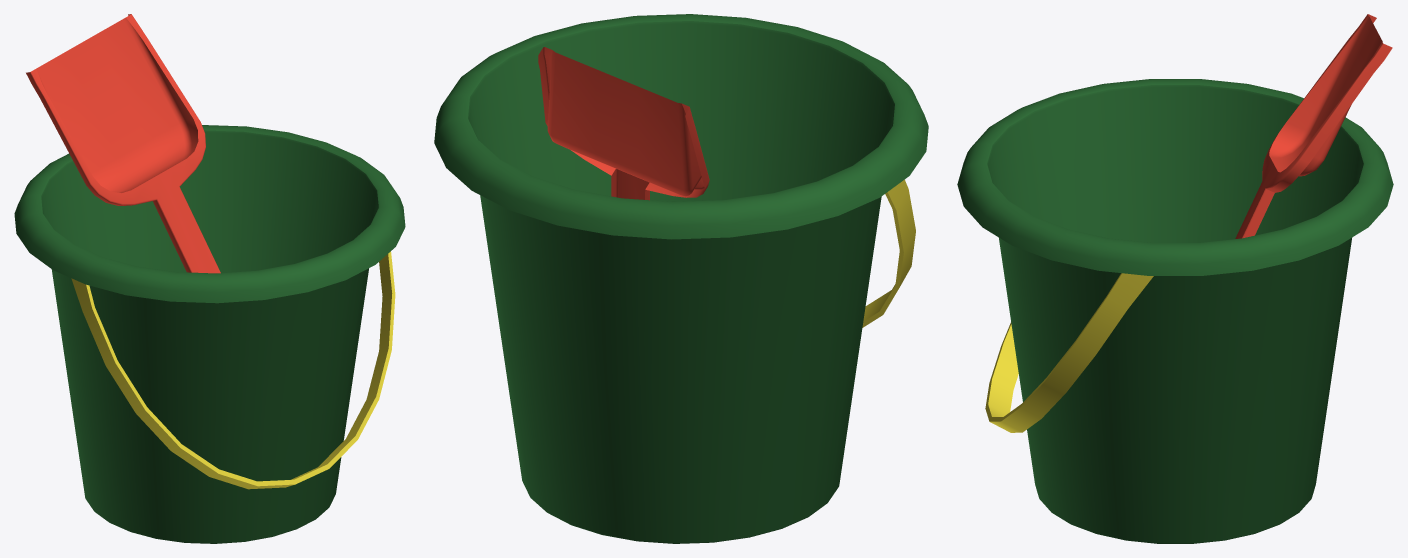
File: Secchio&Paletta.fbx
The picture shows the model from 3 angles, left to right: view 1: azimuth 30°, elevation 25°; view 2: azimuth 150°, elevation 25°; view 3: azimuth 270°, elevation 25°; orthographic projection. The views are drawn at different scales.
Visible parts, largest first — view 1: SandBucket, Spade, SandBucketHandle; view 2: SandBucket, Spade, SandBucketHandle; view 3: SandBucket, Spade, SandBucketHandle.
Part boxes in pixels (x1,y1,x2,y2): SandBucket: [14, 125, 405, 543]; Spade: [26, 14, 220, 273]; SandBucketHandle: [71, 251, 395, 489]; SandBucket: [434, 14, 928, 543]; Spade: [538, 47, 709, 200]; SandBucketHandle: [862, 179, 915, 327]; SandBucket: [957, 79, 1393, 543]; Spade: [1235, 14, 1392, 238]; SandBucketHandle: [985, 273, 1153, 432].
Size of the model in its own units: 53.86 by 61.83 by 54.26.
